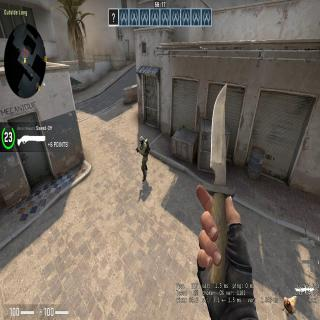CT-Body: (138, 132, 150, 180)
CT-Head: (138, 134, 144, 144)
